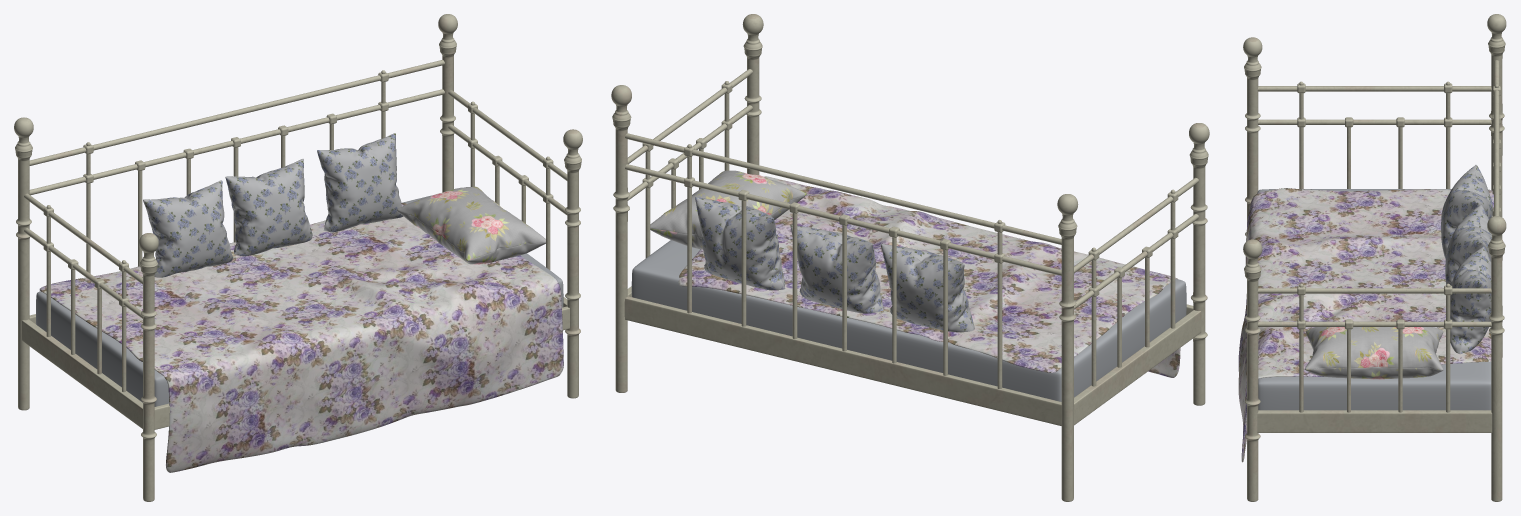
Rendered from bk_bed_metal.glb.
The picture shows the model from 3 angles, left to right: view 1: azimuth 30°, elevation 25°; view 2: azimuth 150°, elevation 25°; view 3: azimuth 270°, elevation 25°; orthographic projection. The views are drawn at different scales.
Parts seen in each view (by area): view 1: Sheet, Cage, Pillow_d, Pillow_c, Pillow_b, Pillow_a, Mattress_Bed, Holder_Bed; view 2: Cage, Sheet, Mattress_Bed, Holder_Bed, Pillow_c, Pillow_b, Pillow_a, Pillow_d; view 3: Sheet, Cage, Mattress_Bed, Pillow_d, Holder_Bed, Pillow_c, Pillow_a, Pillow_b.
Boxes of the visible parts, x1=… form: Sheet: x1=39, y1=203, x2=563, y2=472; Cage: x1=14, y1=14, x2=582, y2=501; Pillow_d: x1=397, y1=186, x2=545, y2=264; Pillow_c: x1=317, y1=133, x2=403, y2=232; Pillow_b: x1=225, y1=159, x2=312, y2=256; Pillow_a: x1=143, y1=180, x2=233, y2=277; Mattress_Bed: x1=36, y1=195, x2=563, y2=406; Holder_Bed: x1=22, y1=297, x2=569, y2=429; Cage: x1=611, y1=14, x2=1209, y2=501; Sheet: x1=678, y1=176, x2=1180, y2=377; Mattress_Bed: x1=631, y1=240, x2=1186, y2=401; Holder_Bed: x1=624, y1=286, x2=1201, y2=425; Pillow_c: x1=695, y1=197, x2=785, y2=290; Pillow_b: x1=790, y1=224, x2=883, y2=313; Pillow_a: x1=881, y1=244, x2=974, y2=332; Pillow_d: x1=650, y1=170, x2=806, y2=249; Sheet: x1=1238, y1=188, x2=1493, y2=462; Cage: x1=1243, y1=14, x2=1506, y2=501; Mattress_Bed: x1=1257, y1=189, x2=1491, y2=410; Pillow_d: x1=1305, y1=327, x2=1443, y2=379; Holder_Bed: x1=1257, y1=410, x2=1492, y2=432; Pillow_c: x1=1450, y1=246, x2=1491, y2=354; Pillow_a: x1=1441, y1=165, x2=1493, y2=258; Pillow_b: x1=1445, y1=204, x2=1491, y2=285.
Size of the model in its own units: 2.37 by 1.49 by 1.28.
6 materials, 5 textured.
